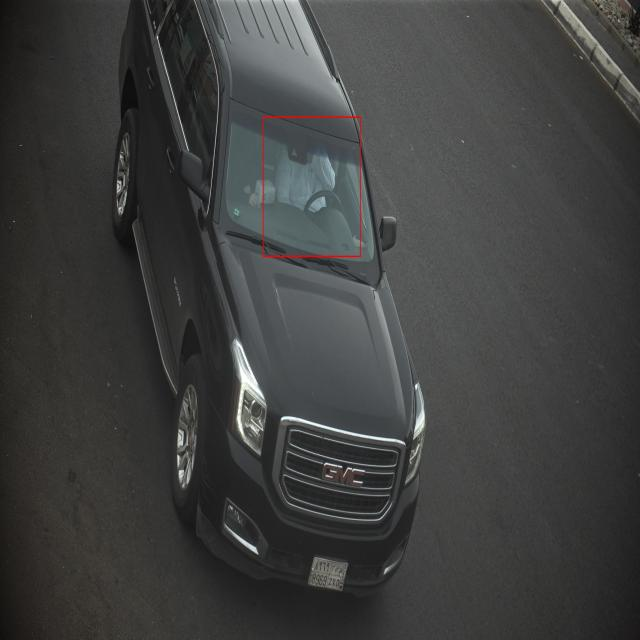windshield: (221, 95, 382, 288)
